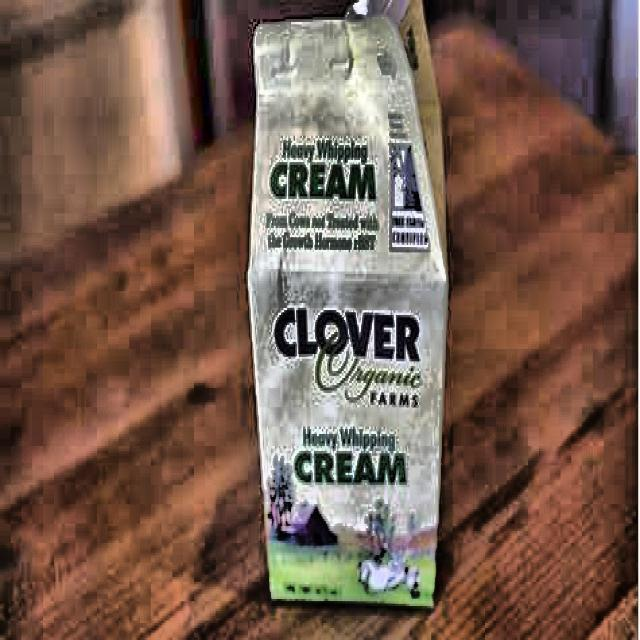cardboard: (246, 9, 448, 608)
